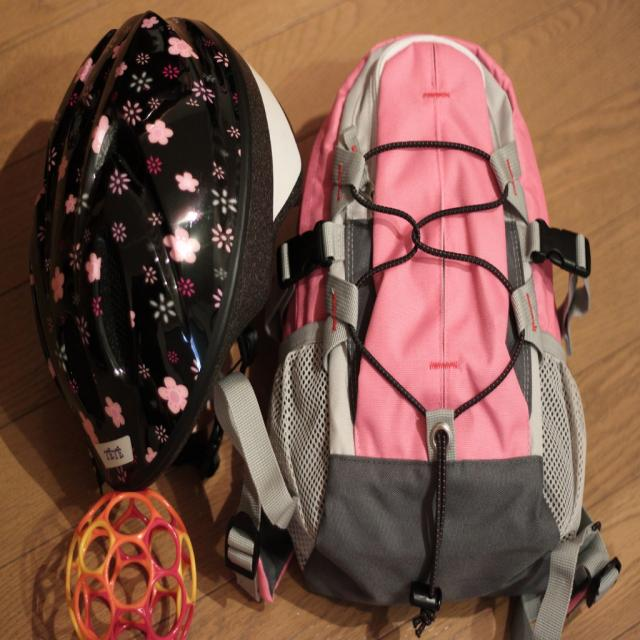backpack: (229, 34, 618, 639)
